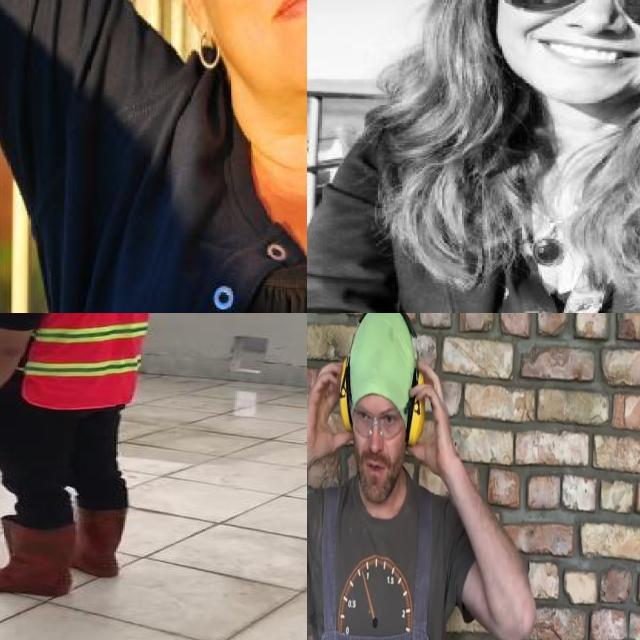Ear-protection: (340, 313, 426, 497)
boots: (0, 521, 76, 596), (65, 509, 126, 577)
face_nomask: (511, 0, 640, 86)
glasses: (348, 400, 406, 442)
person: (307, 0, 640, 313), (307, 313, 537, 640), (0, 313, 174, 599)
vest: (18, 313, 158, 408)
